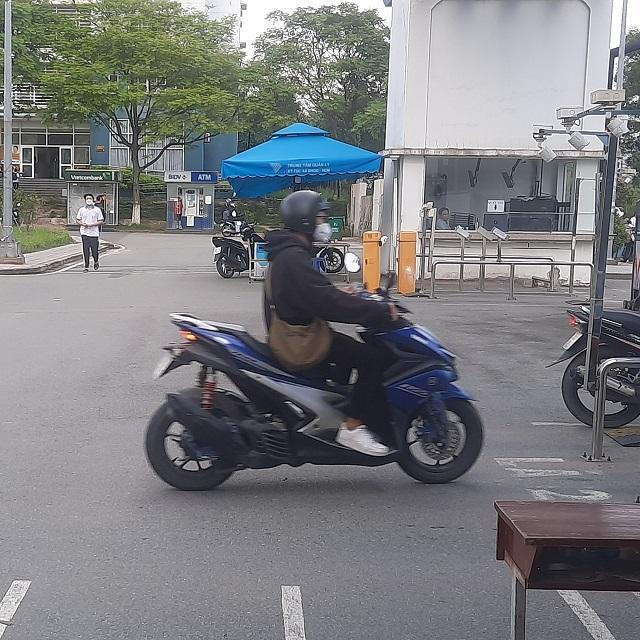Helmet: (279, 185, 337, 248)
